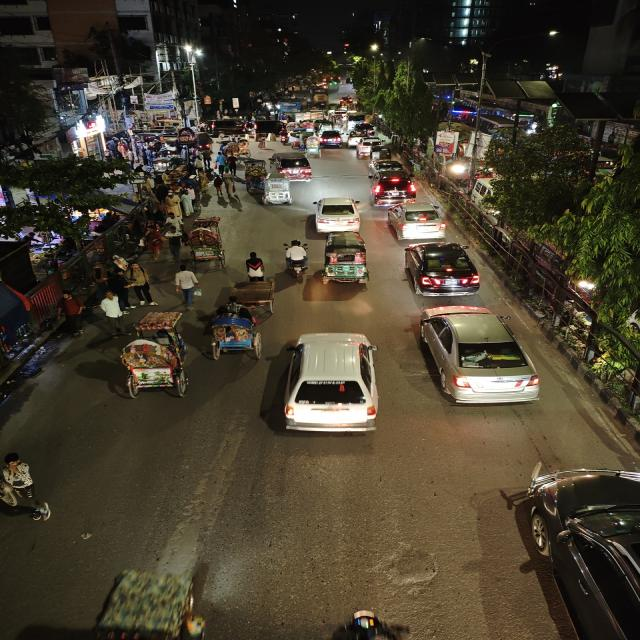car: (511, 457, 640, 640), (412, 303, 543, 411), (266, 331, 390, 441), (401, 240, 485, 298), (384, 200, 452, 241), (366, 162, 420, 202), (308, 196, 363, 233), (270, 151, 315, 183), (207, 119, 245, 139), (317, 129, 347, 148), (354, 138, 376, 160), (350, 123, 377, 137)
cng: (320, 230, 372, 288), (255, 175, 294, 208), (368, 147, 394, 162)
motorcycle: (282, 240, 311, 280)
pedestrian: (0, 446, 57, 526), (122, 260, 156, 305), (58, 290, 88, 338), (96, 292, 126, 336), (171, 266, 202, 308), (107, 270, 135, 308), (162, 215, 186, 259), (140, 222, 165, 262), (212, 174, 238, 211), (242, 250, 268, 282), (173, 188, 194, 218), (194, 188, 214, 212), (255, 131, 270, 149)
rickshaw: (109, 315, 194, 401), (202, 301, 266, 363), (186, 227, 229, 270), (239, 160, 269, 192), (303, 134, 321, 155)
